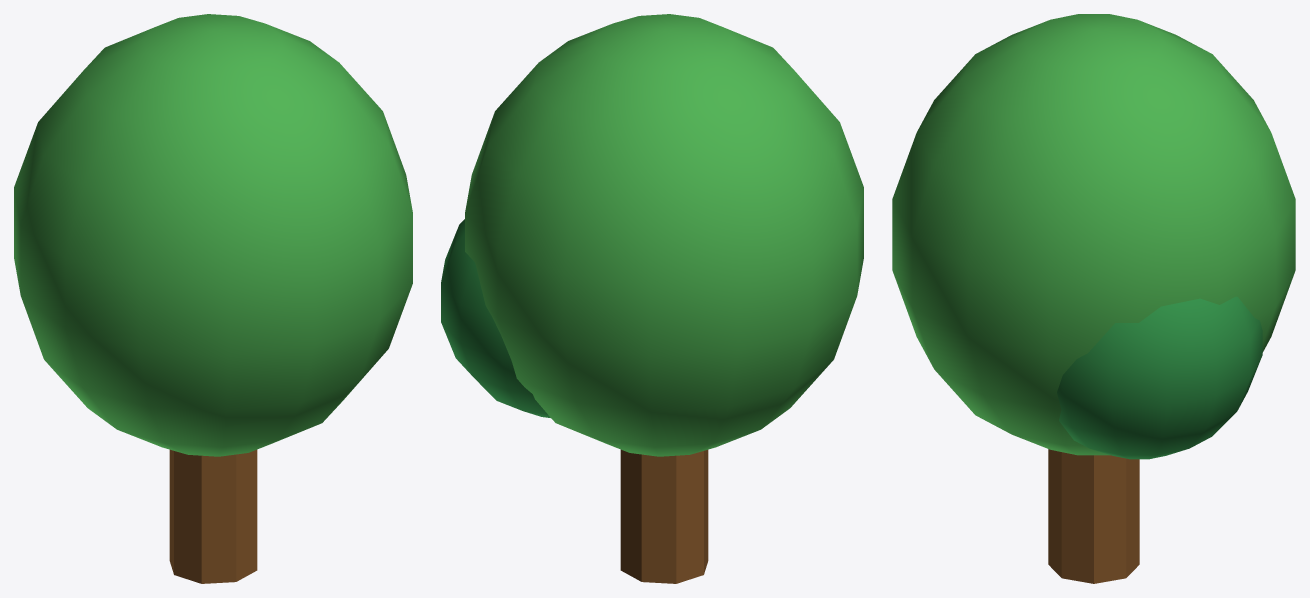
File: p_tree.glb
3 views of the same model, side by side, from view 1: azimuth 30°, elevation 25°; view 2: azimuth 150°, elevation 25°; view 3: azimuth 270°, elevation 25° (orthographic).
Visible parts, largest first — view 1: Leaves, Trunk; view 2: Leaves, Trunk, Leaves2; view 3: Leaves, Leaves2, Trunk.
Boxes of the visible parts, box(x1,y1,x2,y2) form: Leaves: box(14, 14, 412, 456); Trunk: box(169, 449, 257, 583); Leaves: box(465, 14, 863, 456); Trunk: box(620, 449, 708, 583); Leaves2: box(441, 219, 550, 417); Leaves: box(892, 14, 1295, 455); Leaves2: box(1057, 296, 1262, 459); Trunk: box(1048, 449, 1139, 583).
Bounding box in the file's own units: 1.79 × 2.59 × 1.77.
